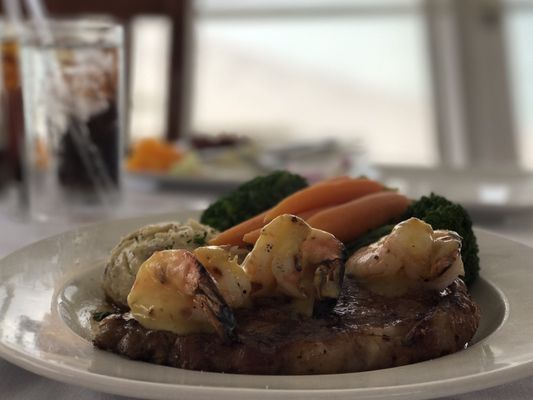curry: (402, 192, 480, 288), (199, 170, 309, 232)
